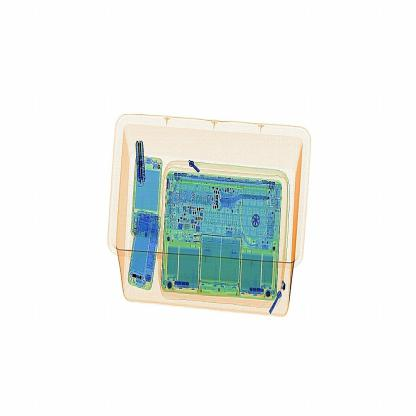scissors: (131, 133, 156, 190)
